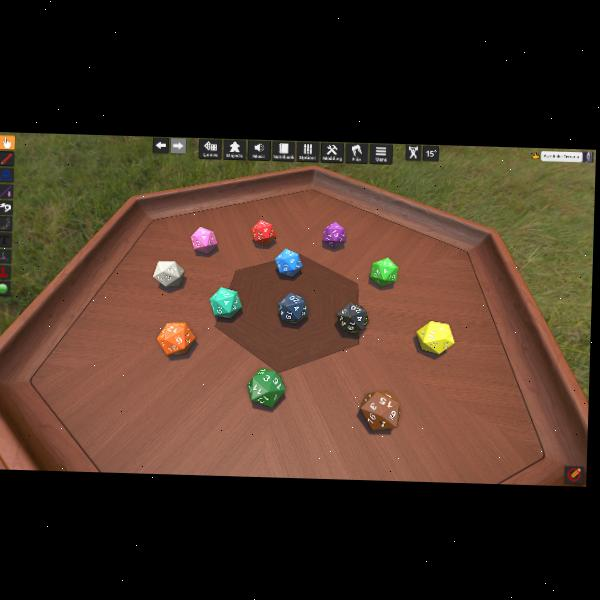d20: (248, 367, 288, 407), (358, 390, 395, 431), (415, 320, 454, 355), (157, 320, 196, 355), (208, 286, 241, 319), (276, 291, 308, 324), (336, 301, 368, 332), (153, 260, 185, 288), (274, 247, 303, 276), (370, 257, 397, 286), (190, 225, 216, 253), (251, 219, 276, 245), (322, 221, 345, 247)
